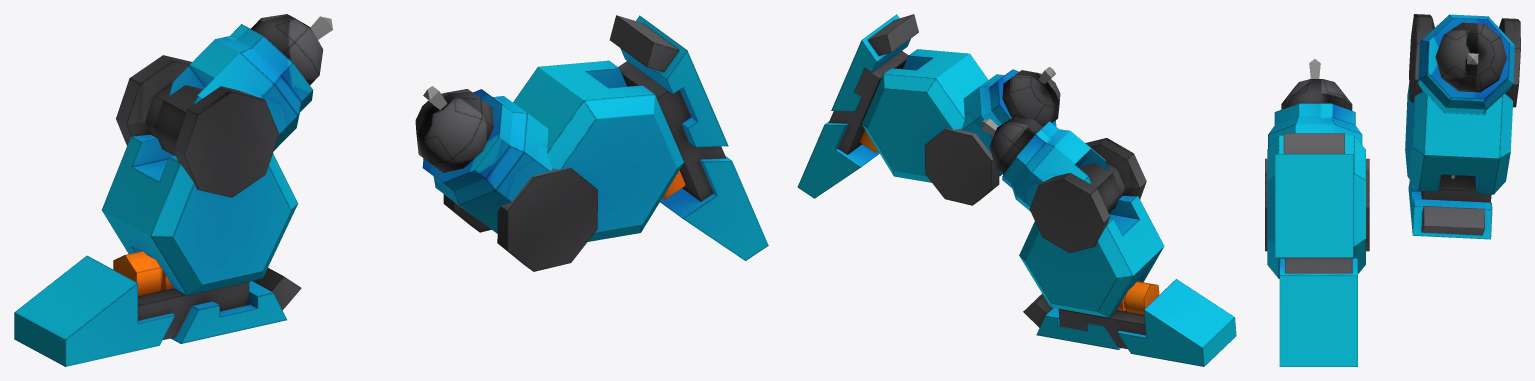
File: Bottom_Running36.obj
3 views of the same model, side by side, from view 1: azimuth 30°, elevation 25°; view 2: azimuth 150°, elevation 25°; view 3: azimuth 270°, elevation 25° (orthographic). The views are drawn at different scales.
Visible parts, largest first — view 1: Object010, Object013, Object011, Object014, Object012, Object009; view 2: Object010, Object013, Object011, Object014, Object009, Object012; view 3: Object014, Object010, Object009, Object011, Object012, Object013.
Boxes of the visible parts, bbox=[...] form: Object010: bbox=[102, 55, 297, 295]; Object013: bbox=[443, 60, 684, 271]; Object011: bbox=[14, 251, 301, 366]; Object014: bbox=[609, 15, 768, 260]; Object012: bbox=[415, 89, 552, 233]; Object009: bbox=[169, 14, 323, 150]; Object010: bbox=[1019, 138, 1164, 317]; Object013: bbox=[862, 49, 1003, 205]; Object011: bbox=[1023, 279, 1236, 366]; Object014: bbox=[797, 14, 918, 198]; Object009: bbox=[989, 117, 1109, 211]; Object012: bbox=[961, 69, 1060, 176]; Object014: bbox=[1275, 133, 1357, 366]; Object010: bbox=[1405, 14, 1520, 194]; Object009: bbox=[1417, 14, 1514, 113]; Object011: bbox=[1408, 174, 1492, 239]; Object012: bbox=[1268, 79, 1362, 147]; Object013: bbox=[1265, 135, 1369, 278].
Bounding box in the file's own units: 215 × 89.81 × 92.35.
